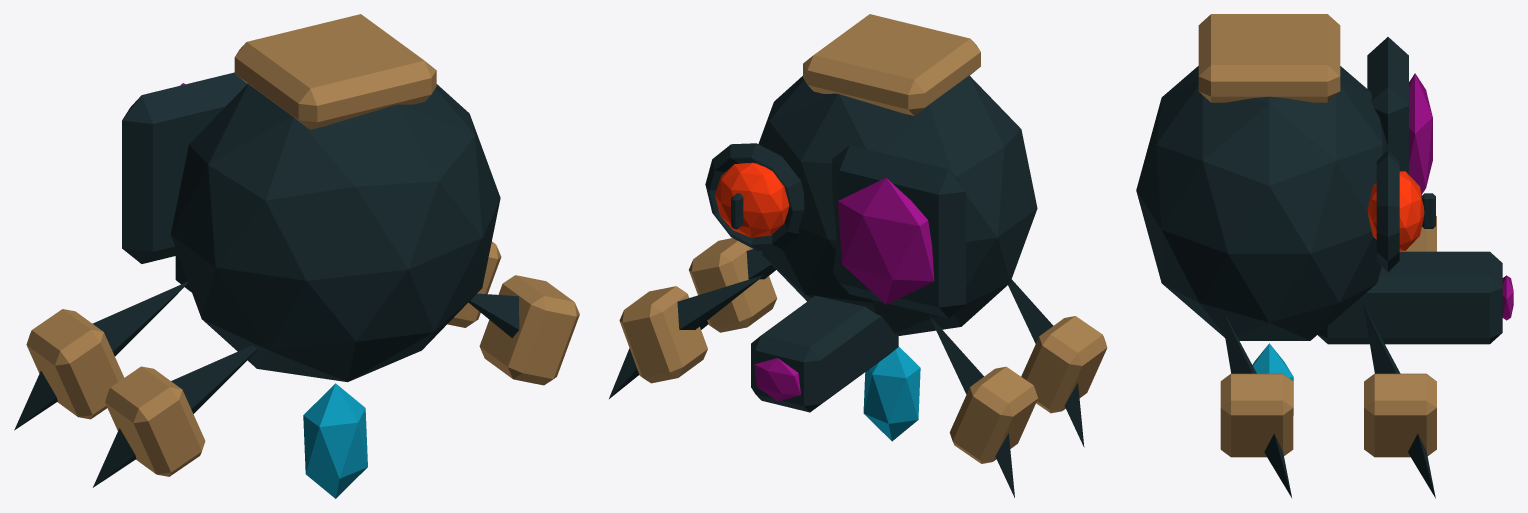
Rendered from PaintShooterEnemy.obj.
The picture shows the model from 3 angles, left to right: view 1: azimuth 30°, elevation 25°; view 2: azimuth 150°, elevation 25°; view 3: azimuth 270°, elevation 25°; orthographic projection. The views are drawn at different scales.
Visible parts, largest first — view 1: PaintShooterEnemy; view 2: PaintShooterEnemy; view 3: PaintShooterEnemy.
Boxes of the visible parts, x1=… form: PaintShooterEnemy: x1=14, y1=14, x2=579, y2=498; PaintShooterEnemy: x1=609, y1=14, x2=1107, y2=497; PaintShooterEnemy: x1=1136, y1=14, x2=1513, y2=498.
Size of the model in its own units: 1.93 by 1.79 by 1.5.
Materials: 5 (5 with a texture image).
